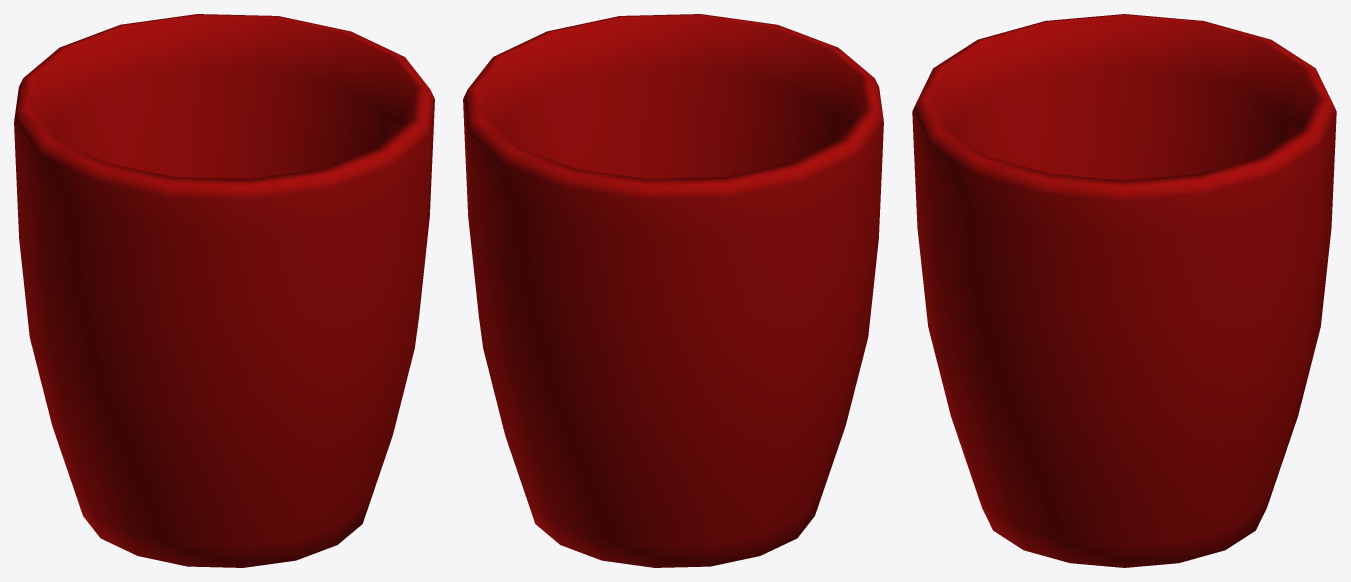
File: God_Tables_Cup.fbx
3 views of the same model, side by side, from view 1: azimuth 30°, elevation 25°; view 2: azimuth 150°, elevation 25°; view 3: azimuth 270°, elevation 25° (orthographic).
Parts seen in each view (by area): view 1: God_Tables_Cup; view 2: God_Tables_Cup; view 3: God_Tables_Cup.
Boxes of the visible parts, bbox=[...] form: God_Tables_Cup: bbox=[14, 14, 434, 567]; God_Tables_Cup: bbox=[463, 14, 883, 567]; God_Tables_Cup: bbox=[912, 14, 1336, 567].
Bounding box in the file's own units: 0.0601 × 0.065 × 0.0601.
